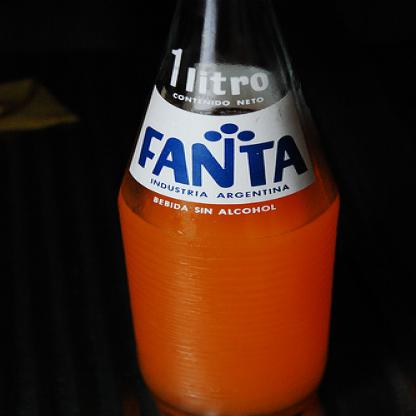bottle: (119, 0, 342, 415)
